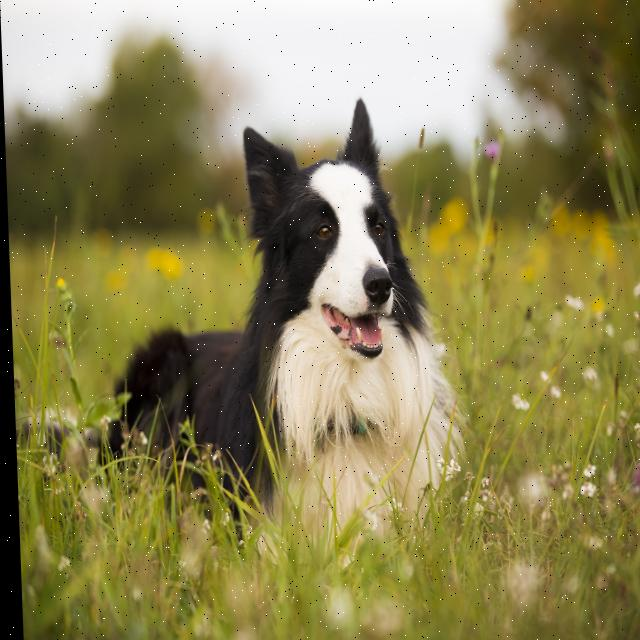ALASKAN_MALAMUTE: (2, 67, 484, 560)
